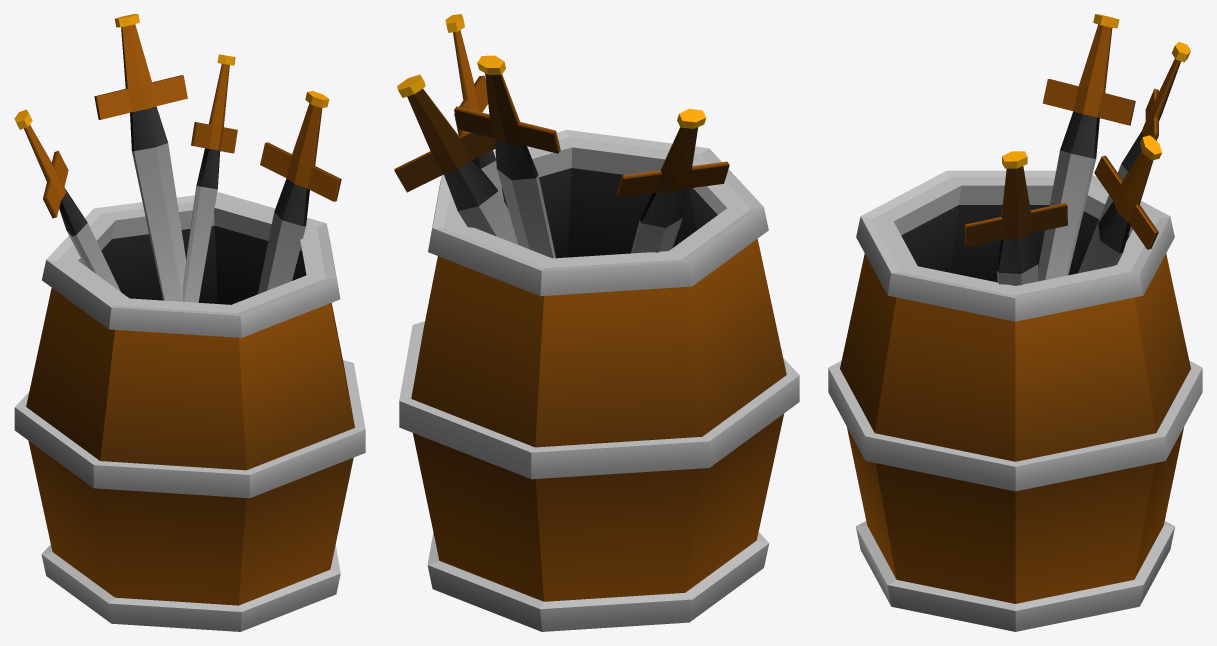
File: GAM0210040.fbx
The picture shows the model from 3 angles, left to right: view 1: azimuth 30°, elevation 25°; view 2: azimuth 150°, elevation 25°; view 3: azimuth 270°, elevation 25°; orthographic projection. The views are drawn at different scales.
Parts seen in each view (by area): view 1: smGAM0210040; view 2: smGAM0210040; view 3: smGAM0210040.
Boxes of the visible parts, left/top/right/bottom form: smGAM0210040: left=14, top=14, right=365, bottom=631; smGAM0210040: left=394, top=14, right=799, bottom=631; smGAM0210040: left=828, top=14, right=1202, bottom=631.
Size of the model in its own units: 93.57 by 148 by 95.98.
1 material, 1 textured.
